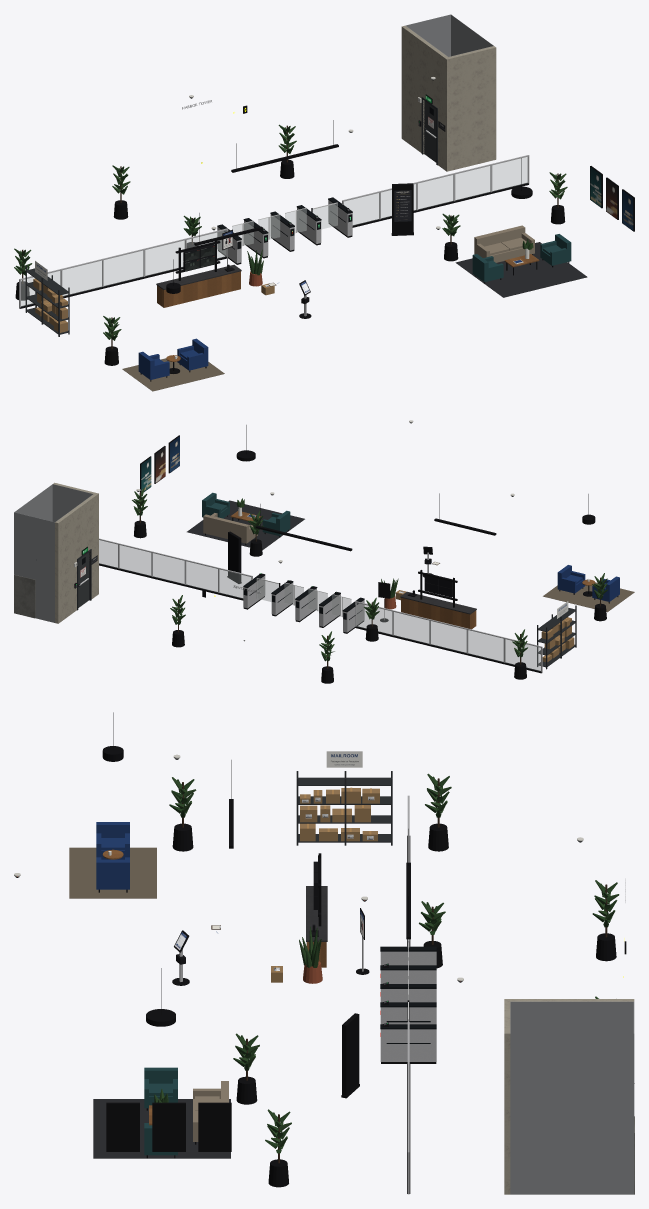
File: harbor_lobby_detail.glb
3 renders of one model, top to bottom at view 1: azimuth 30°, elevation 25°; view 2: azimuth 150°, elevation 25°; view 3: azimuth 270°, elevation 25°, orthographic. The views are drawn at different scales.
Parts seen in each view (by area): view 1: Stair_Core, Lobby_Seating, Gate_Balustrade_East, Gate_Balustrade_West, Lobby_Plants, SpeedGate_Bank, Security_Monitor_Bank, Mailroom_Shelf, Lobby_Art_Panels, Directory_Sign, Stair_Door, Directory_Sign_Face (+1 smaller); view 2: Stair_Core, Lobby_Seating, Gate_Balustrade_West, Gate_Balustrade_East, Lobby_Plants, SpeedGate_Bank, Security_Monitor_Bank, Mailroom_Shelf, Lobby_Art_Panels, Directory_Sign, Stair_Door, Turnstile_L4_ADA_Gate (+1 smaller); view 3: Stair_Core, Lobby_Seating, Lobby_Plants, SpeedGate_Bank, Mailroom_Shelf, Lobby_Art, Security_Monitor_Bank, Directory_Sign, Seating_Pendant_Light, Mailroom_Shelf_Labels.
Boxes of the visible parts, left/top/right/bottom form: Stair_Core: left=401, top=14, right=496, bottom=171; Lobby_Seating: left=122, top=225, right=587, bottom=391; Gate_Balustrade_East: left=342, top=155, right=529, bottom=227; Gate_Balustrade_West: left=19, top=228, right=228, bottom=308; Lobby_Plants: left=14, top=124, right=567, bottom=365; SpeedGate_Bank: left=217, top=197, right=352, bottom=264; Security_Monitor_Bank: left=156, top=241, right=241, bottom=307; Mailroom_Shelf: left=25, top=265, right=69, bottom=336; Lobby_Art_Panels: left=590, top=167, right=633, bottom=230; Directory_Sign: left=391, top=183, right=413, bottom=235; Stair_Door: left=424, top=101, right=436, bottom=162; Directory_Sign_Face: left=394, top=190, right=411, bottom=221; Stair_Core: left=14, top=482, right=98, bottom=623; Lobby_Seating: left=187, top=492, right=634, bottom=612; Gate_Balustrade_West: left=355, top=601, right=542, bottom=673; Gate_Balustrade_East: left=99, top=538, right=252, bottom=600; Lobby_Plants: left=132, top=488, right=607, bottom=683; SpeedGate_Bank: left=243, top=574, right=364, bottom=633; Security_Monitor_Bank: left=400, top=570, right=476, bottom=629; Mailroom_Shelf: left=537, top=605, right=576, bottom=669; Lobby_Art_Panels: left=141, top=436, right=179, bottom=491; Directory_Sign: left=227, top=531, right=241, bottom=583; Stair_Door: left=78, top=552, right=89, bottom=607; Turnstile_L4_ADA_Gate: left=256, top=578, right=280, bottom=601; Stair_Core: left=504, top=999, right=634, bottom=1194; Lobby_Seating: left=69, top=822, right=230, bottom=1158; Lobby_Plants: left=169, top=773, right=619, bottom=1187; SpeedGate_Bank: left=380, top=946, right=436, bottom=1063; Mailroom_Shelf: left=296, top=771, right=392, bottom=845; Lobby_Art: left=106, top=1102, right=231, bottom=1151; Security_Monitor_Bank: left=306, top=853, right=327, bottom=967; Directory_Sign: left=341, top=1013, right=359, bottom=1098; Seating_Pendant_Light: left=102, top=712, right=175, bottom=1026; Mailroom_Shelf_Labels: left=302, top=751, right=374, bottom=839.
Bounding box in the file's own units: 21.19 × 4.45 × 15.55.
55 materials, 20 textured.
